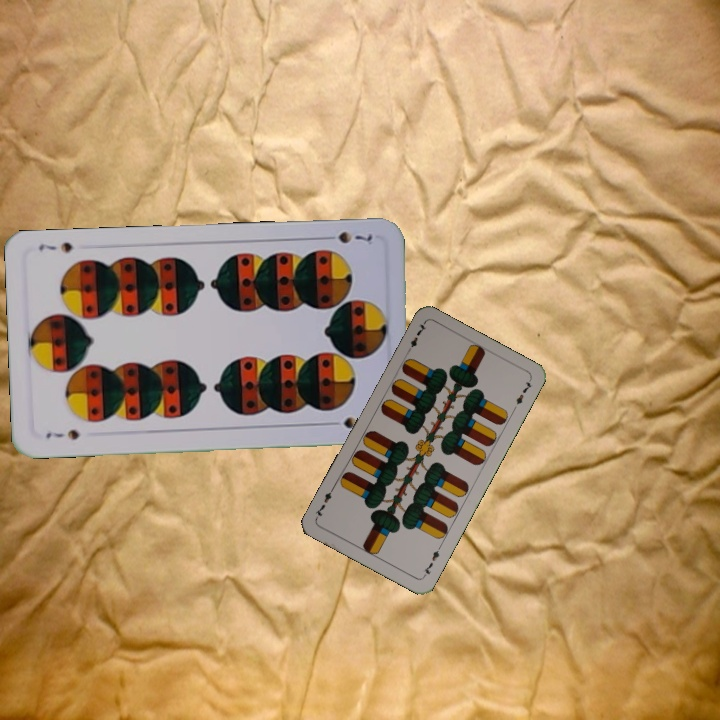E7: (403, 319, 429, 356), (419, 542, 444, 580)
S7: (319, 227, 378, 246), (42, 426, 82, 443)
